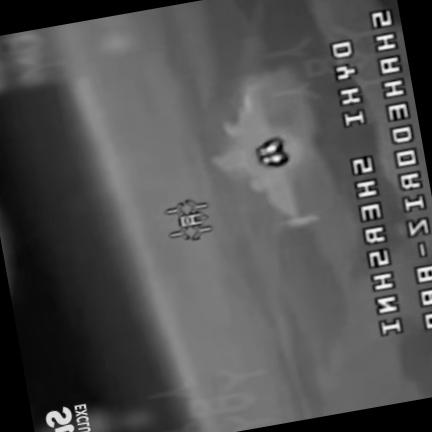Shahed: (215, 74, 318, 226)
